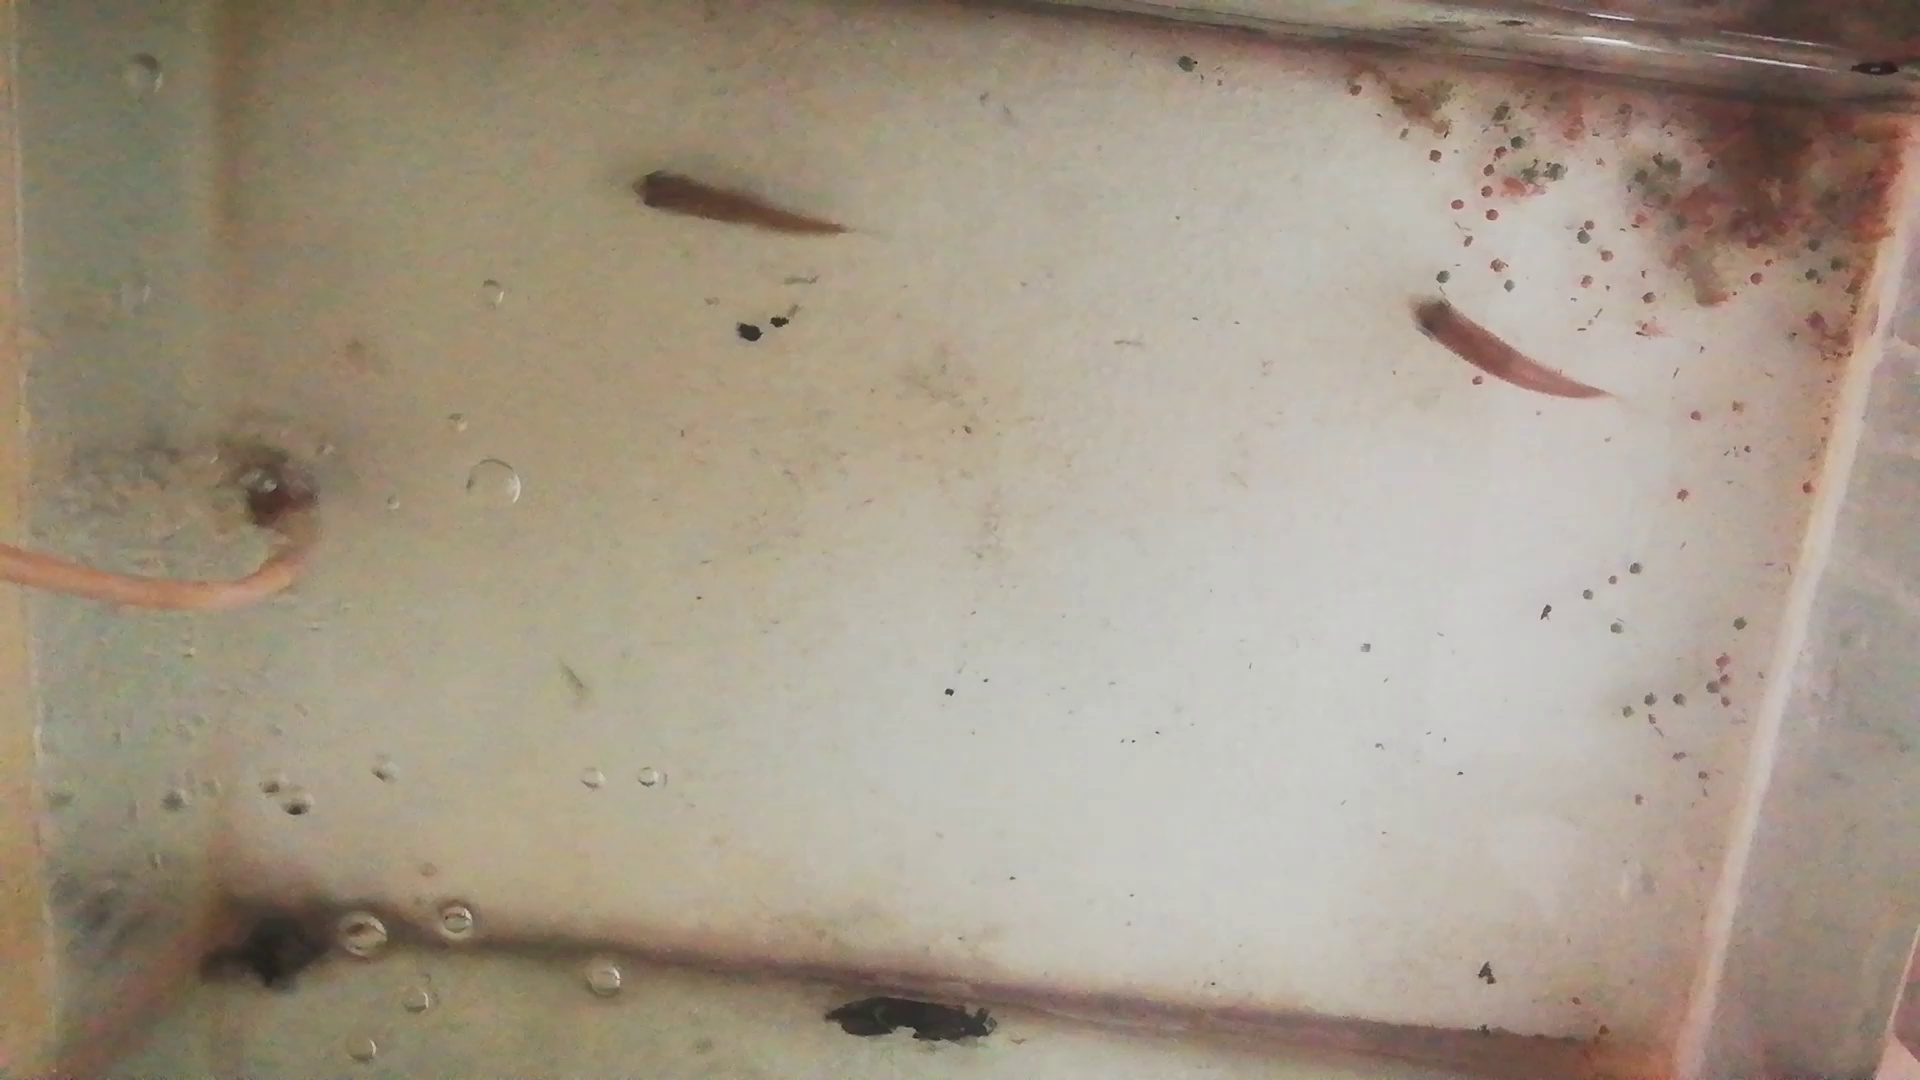fish: (1404, 289, 1614, 404), (622, 170, 845, 247)
